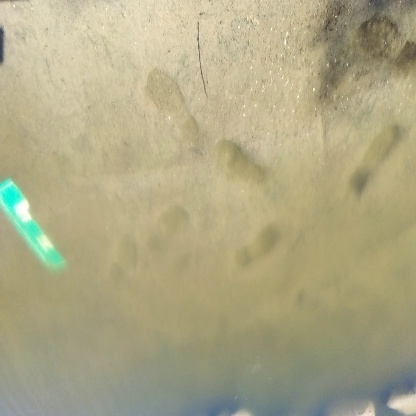plastic-garbage: (1, 172, 69, 274)
